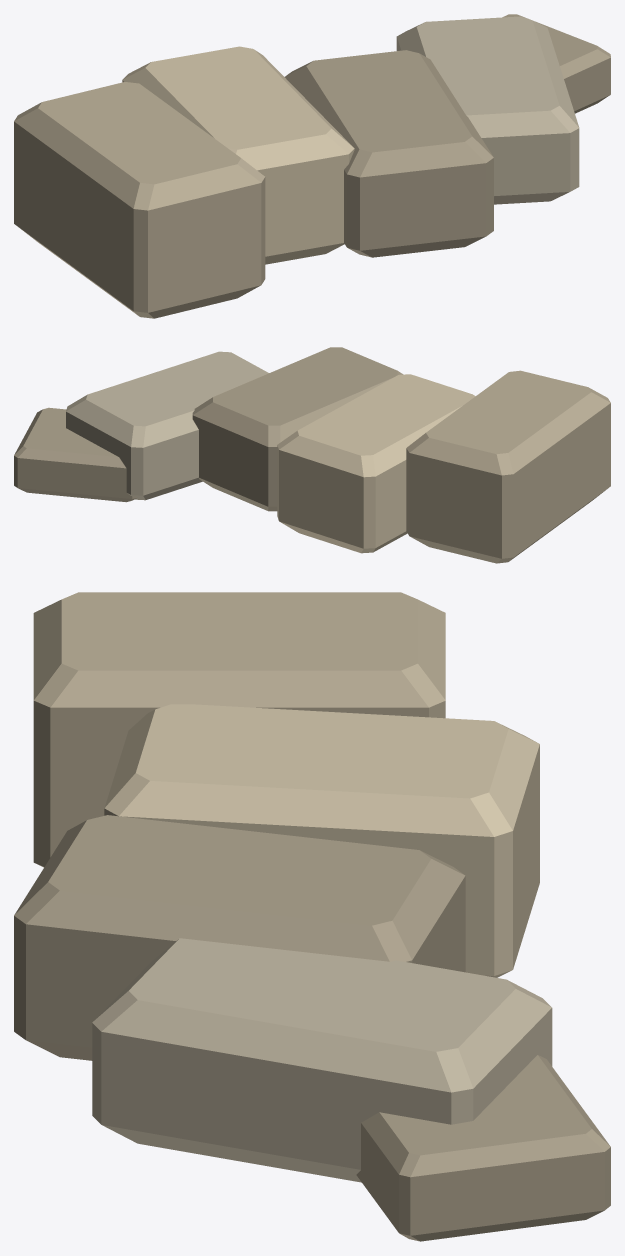
The model's file is Rubble_Arch_Blocks.fbx.
3 views of the same model, one above another, from view 1: azimuth 30°, elevation 25°; view 2: azimuth 150°, elevation 25°; view 3: azimuth 270°, elevation 25° (orthographic). The views are drawn at different scales.
Parts seen in each view (by area): view 1: Rubble_Arch_Blocks; view 2: Rubble_Arch_Blocks; view 3: Rubble_Arch_Blocks.
Boxes of the visible parts, x1,y1,x2,y2 form: Rubble_Arch_Blocks: (14, 14, 610, 318); Rubble_Arch_Blocks: (14, 347, 610, 563); Rubble_Arch_Blocks: (14, 592, 610, 1241).
Size of the model in its own units: 1.7 by 0.37 by 0.9417.
